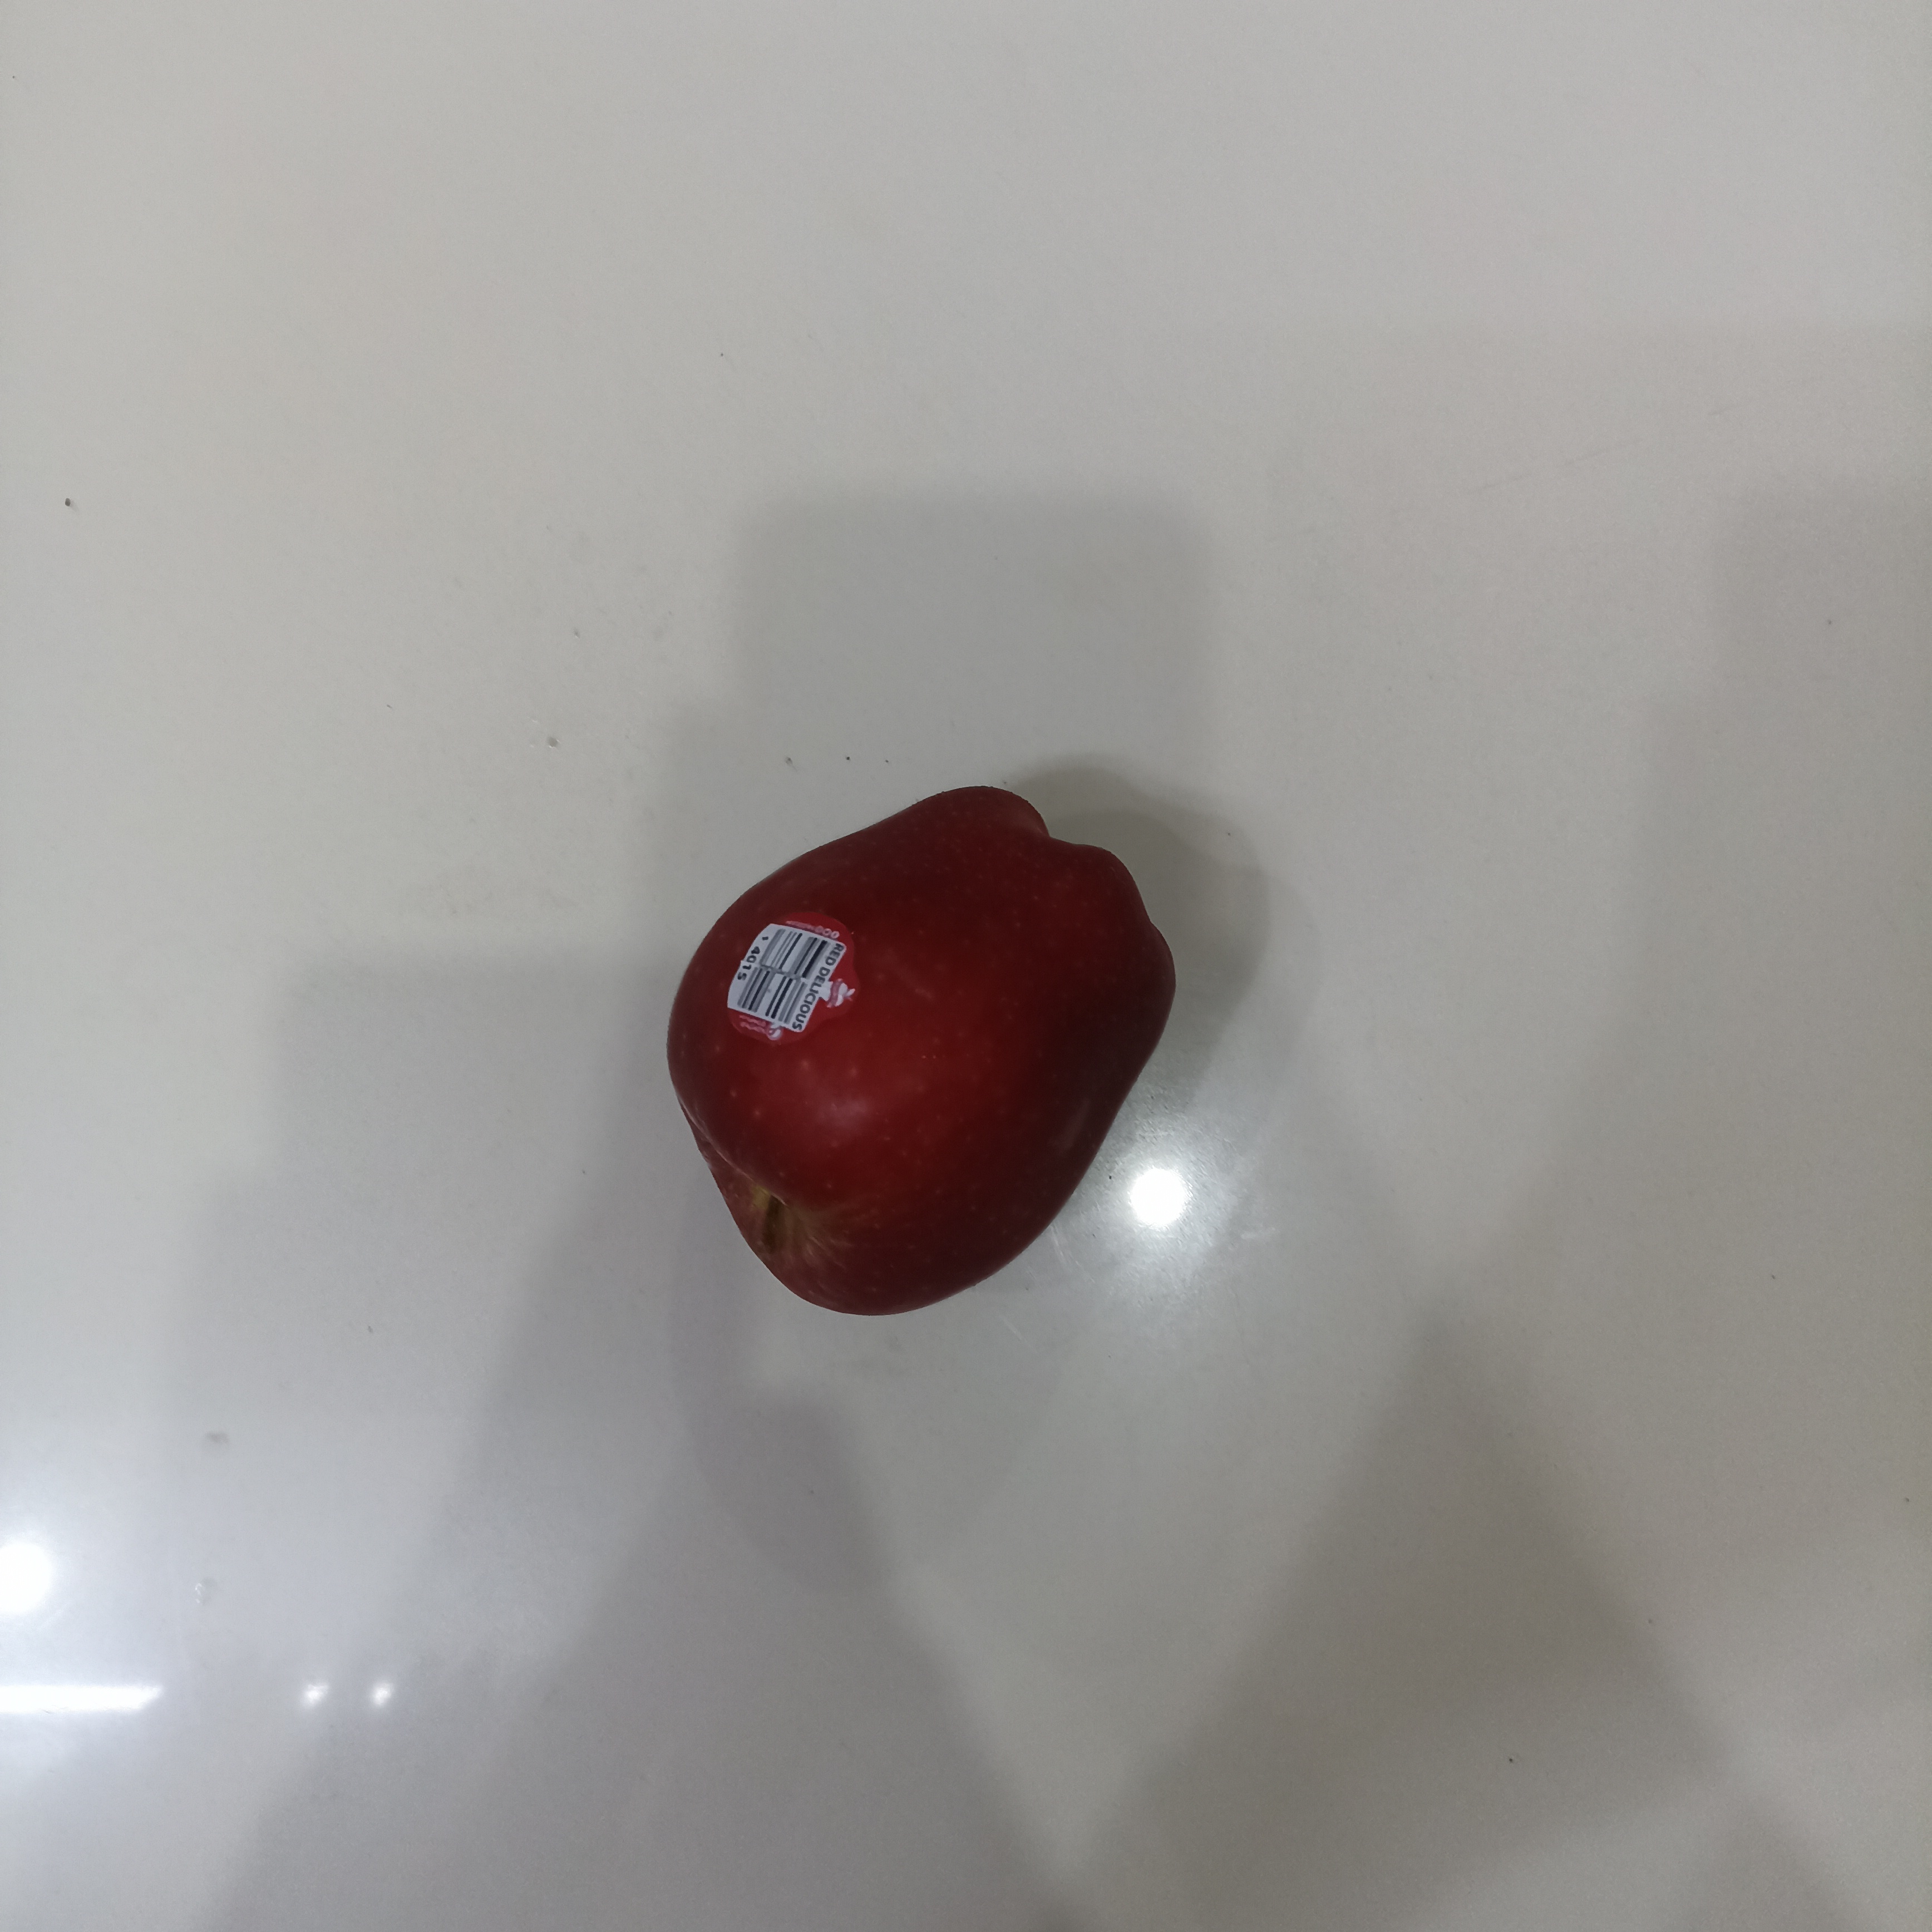Tao do: (663, 782, 1177, 1316)
